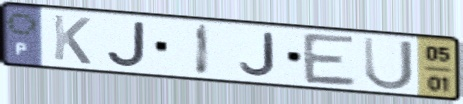E: (300, 30, 359, 89)
I: (193, 21, 213, 78)
J: (104, 19, 148, 69), (237, 31, 279, 78)
K: (50, 12, 93, 67)
U: (360, 35, 416, 92)
